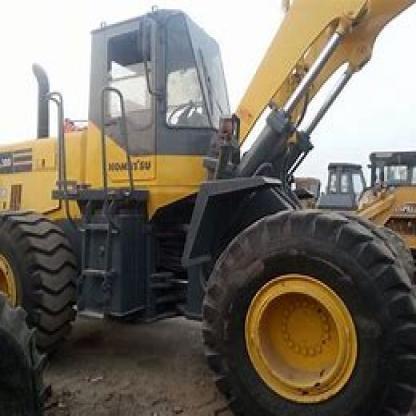bull_dozer/loader/grader: (1, 4, 414, 412)
